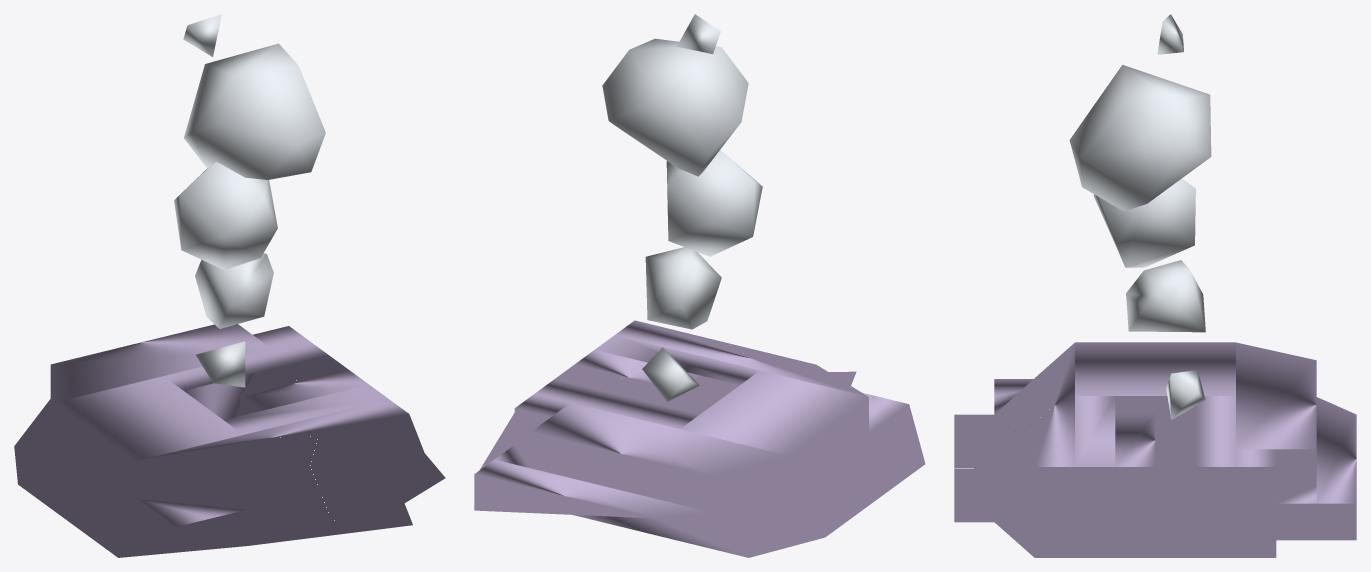
The model's file is steam-vent-pixor-blocky_lod2.glb.
The picture shows the model from 3 angles, left to right: view 1: azimuth 30°, elevation 25°; view 2: azimuth 150°, elevation 25°; view 3: azimuth 270°, elevation 25°; orthographic projection.
Visible parts, largest first — view 1: Vent rim, Steam; view 2: Vent rim, Steam; view 3: Vent rim, Steam.
Boxes of the visible parts, left/top/right/bottom form: Vent rim: left=14, top=324, right=445, bottom=557; Steam: left=174, top=14, right=325, bottom=387; Vent rim: left=474, top=320, right=925, bottom=557; Steam: left=602, top=14, right=762, bottom=401; Vent rim: left=954, top=342, right=1356, bottom=557; Steam: left=1069, top=14, right=1211, bottom=419.
Bounding box in the file's own units: 0.9637 × 1.28 × 1.02.
